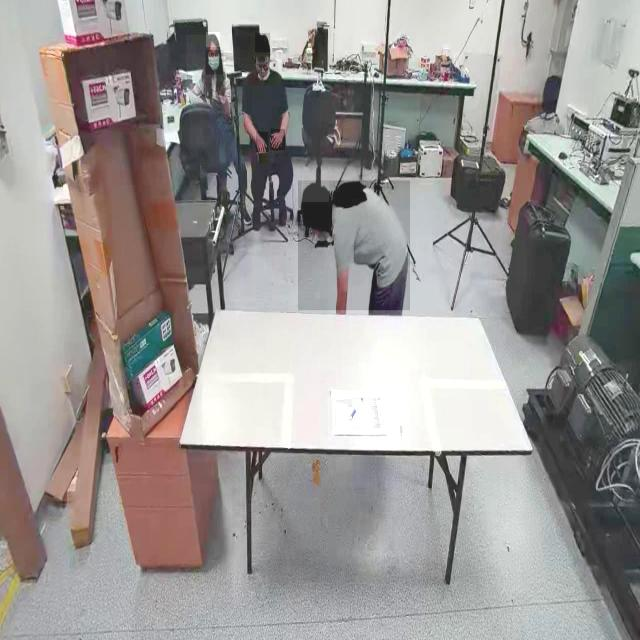face_mask: (206, 50, 223, 74)
hand_noglove: (270, 129, 285, 151), (256, 131, 268, 153)
head_nohelmet: (301, 180, 329, 202), (254, 33, 270, 53), (206, 32, 220, 48)
person: (298, 181, 410, 311), (235, 36, 292, 235), (186, 34, 230, 114)
shoes: (275, 191, 290, 229), (237, 193, 252, 227)
